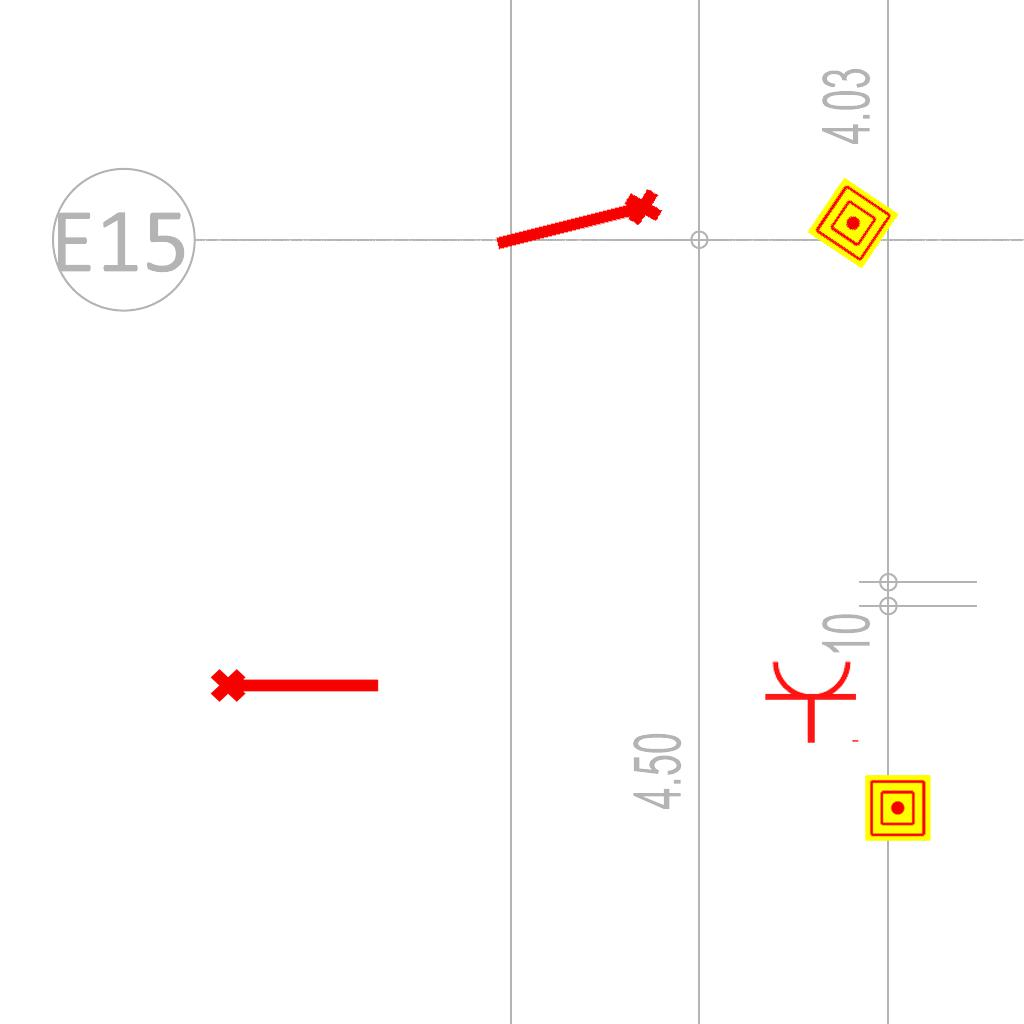ASR_Ansaugoeffnung: (487, 182, 669, 270), (208, 660, 384, 706)
NAM-Nichtautomatischer_Melder: (807, 177, 899, 269), (865, 775, 931, 841)
Schukosteckdose_einfach: (763, 658, 863, 745)
